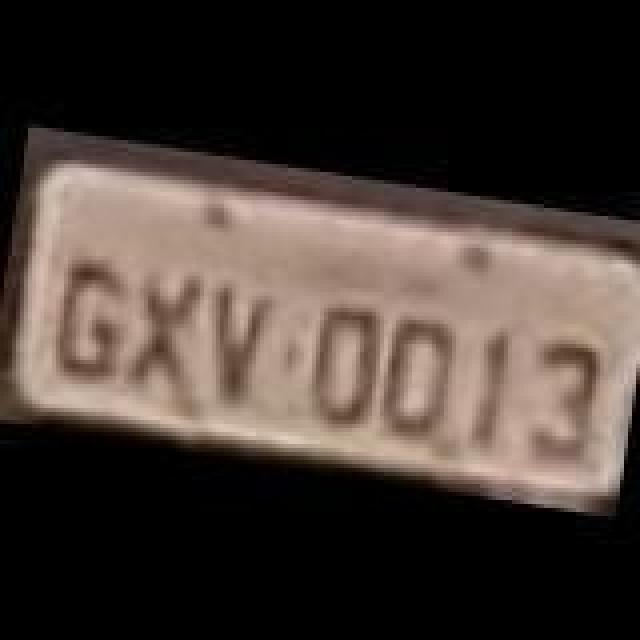1: (462, 316, 522, 452)
3: (516, 336, 604, 464)
G: (52, 256, 140, 384)
O: (372, 308, 460, 444), (296, 296, 384, 432)
V: (194, 276, 278, 412)
X: (112, 262, 208, 402)
